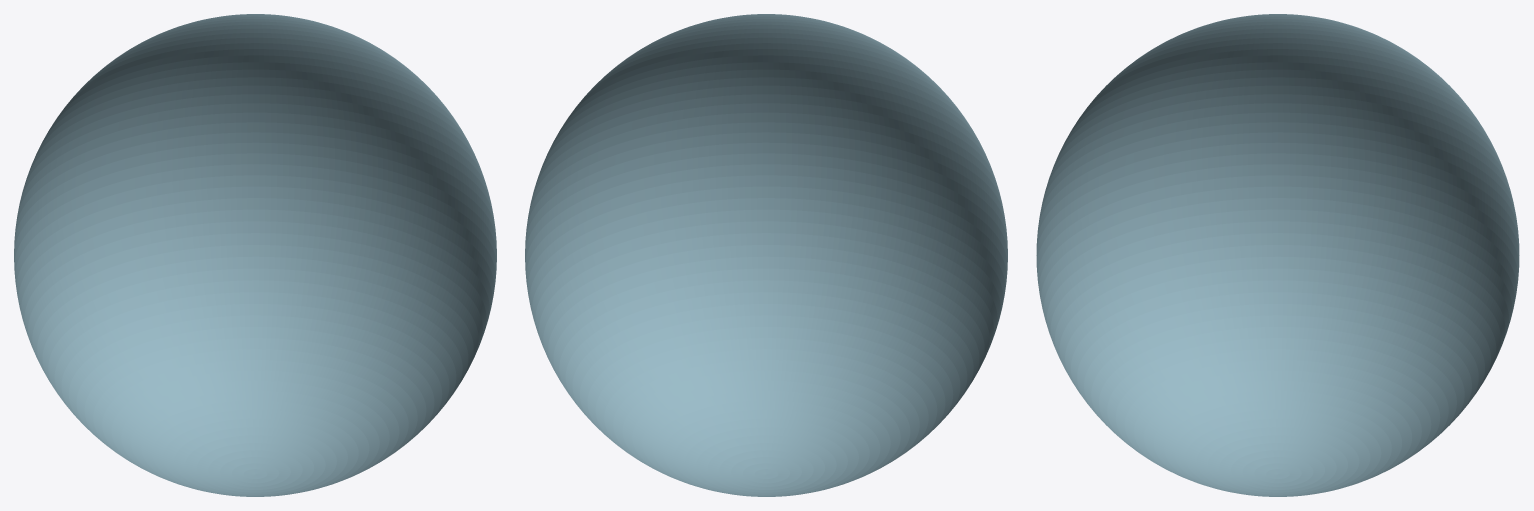
File: skybox_1.gltf
The picture shows the model from 3 angles, left to right: view 1: azimuth 30°, elevation 25°; view 2: azimuth 150°, elevation 25°; view 3: azimuth 270°, elevation 25°; orthographic projection.
Visible parts, largest first — view 1: skybox; view 2: skybox; view 3: skybox.
Part boxes in pixels (x1,y1,x2,y2): skybox: (14, 14, 496, 496); skybox: (525, 14, 1007, 496); skybox: (1036, 14, 1519, 496).
Size of the model in its own units: 4000 by 4000 by 4000.
